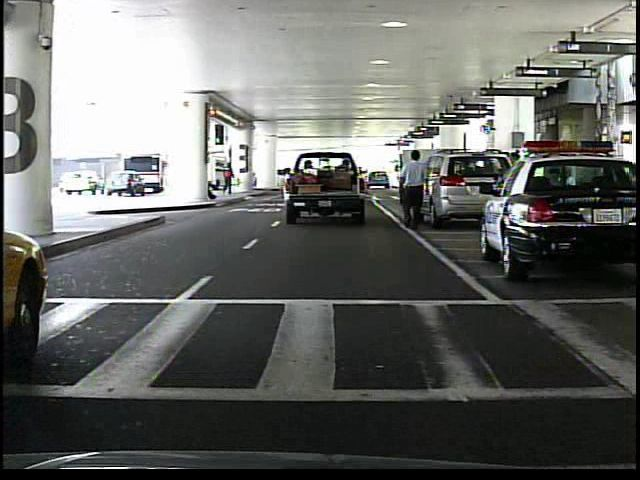person: (396, 149, 436, 231), (221, 160, 237, 198)
